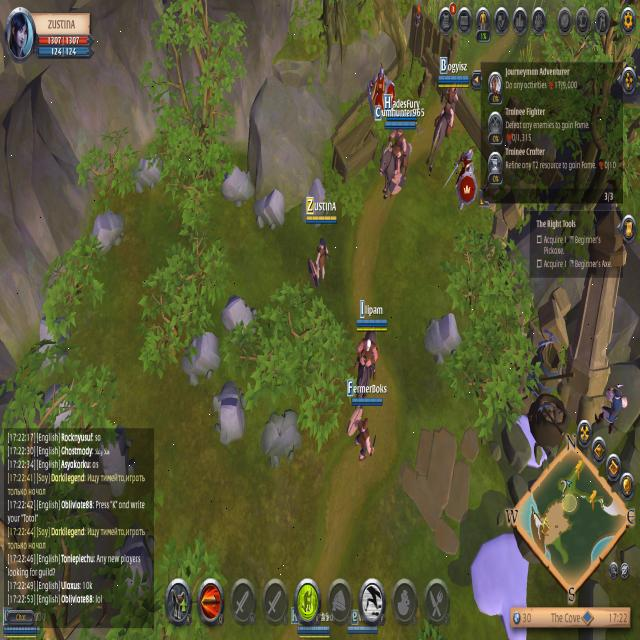broken stone: (257, 404, 305, 465)
stone: (32, 306, 74, 384), (220, 294, 266, 355), (210, 379, 249, 445), (424, 304, 459, 375), (84, 216, 136, 263), (220, 156, 259, 218), (177, 333, 225, 381), (129, 145, 164, 208), (251, 184, 292, 234), (300, 174, 331, 223)
